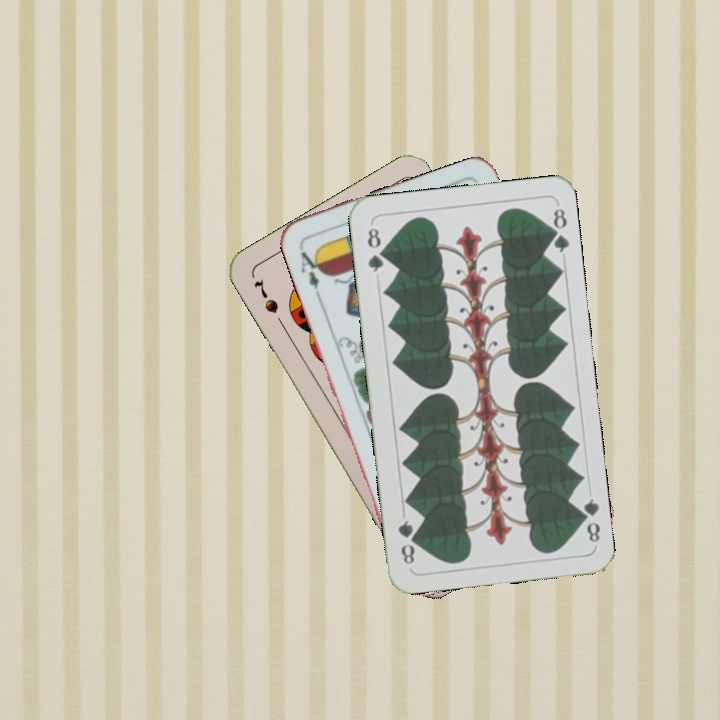EA: (295, 242, 327, 299)
G8: (574, 494, 603, 545), (363, 220, 387, 275)
S7: (250, 274, 282, 317)
